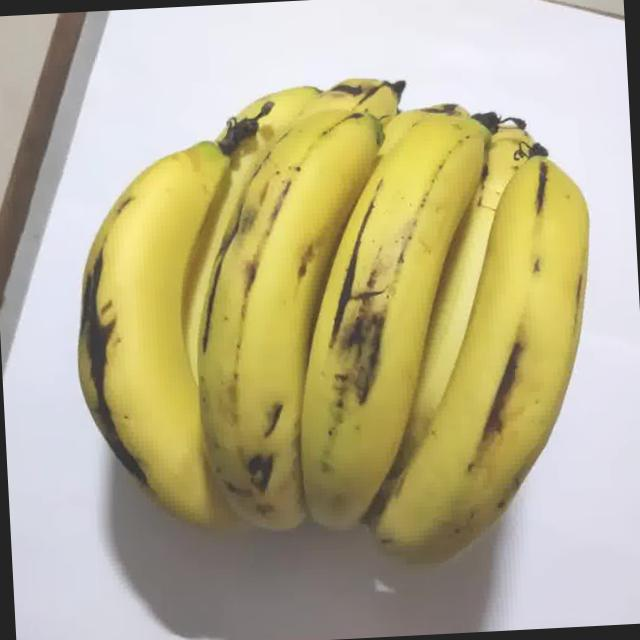banana_pacche: (49, 0, 640, 631)
